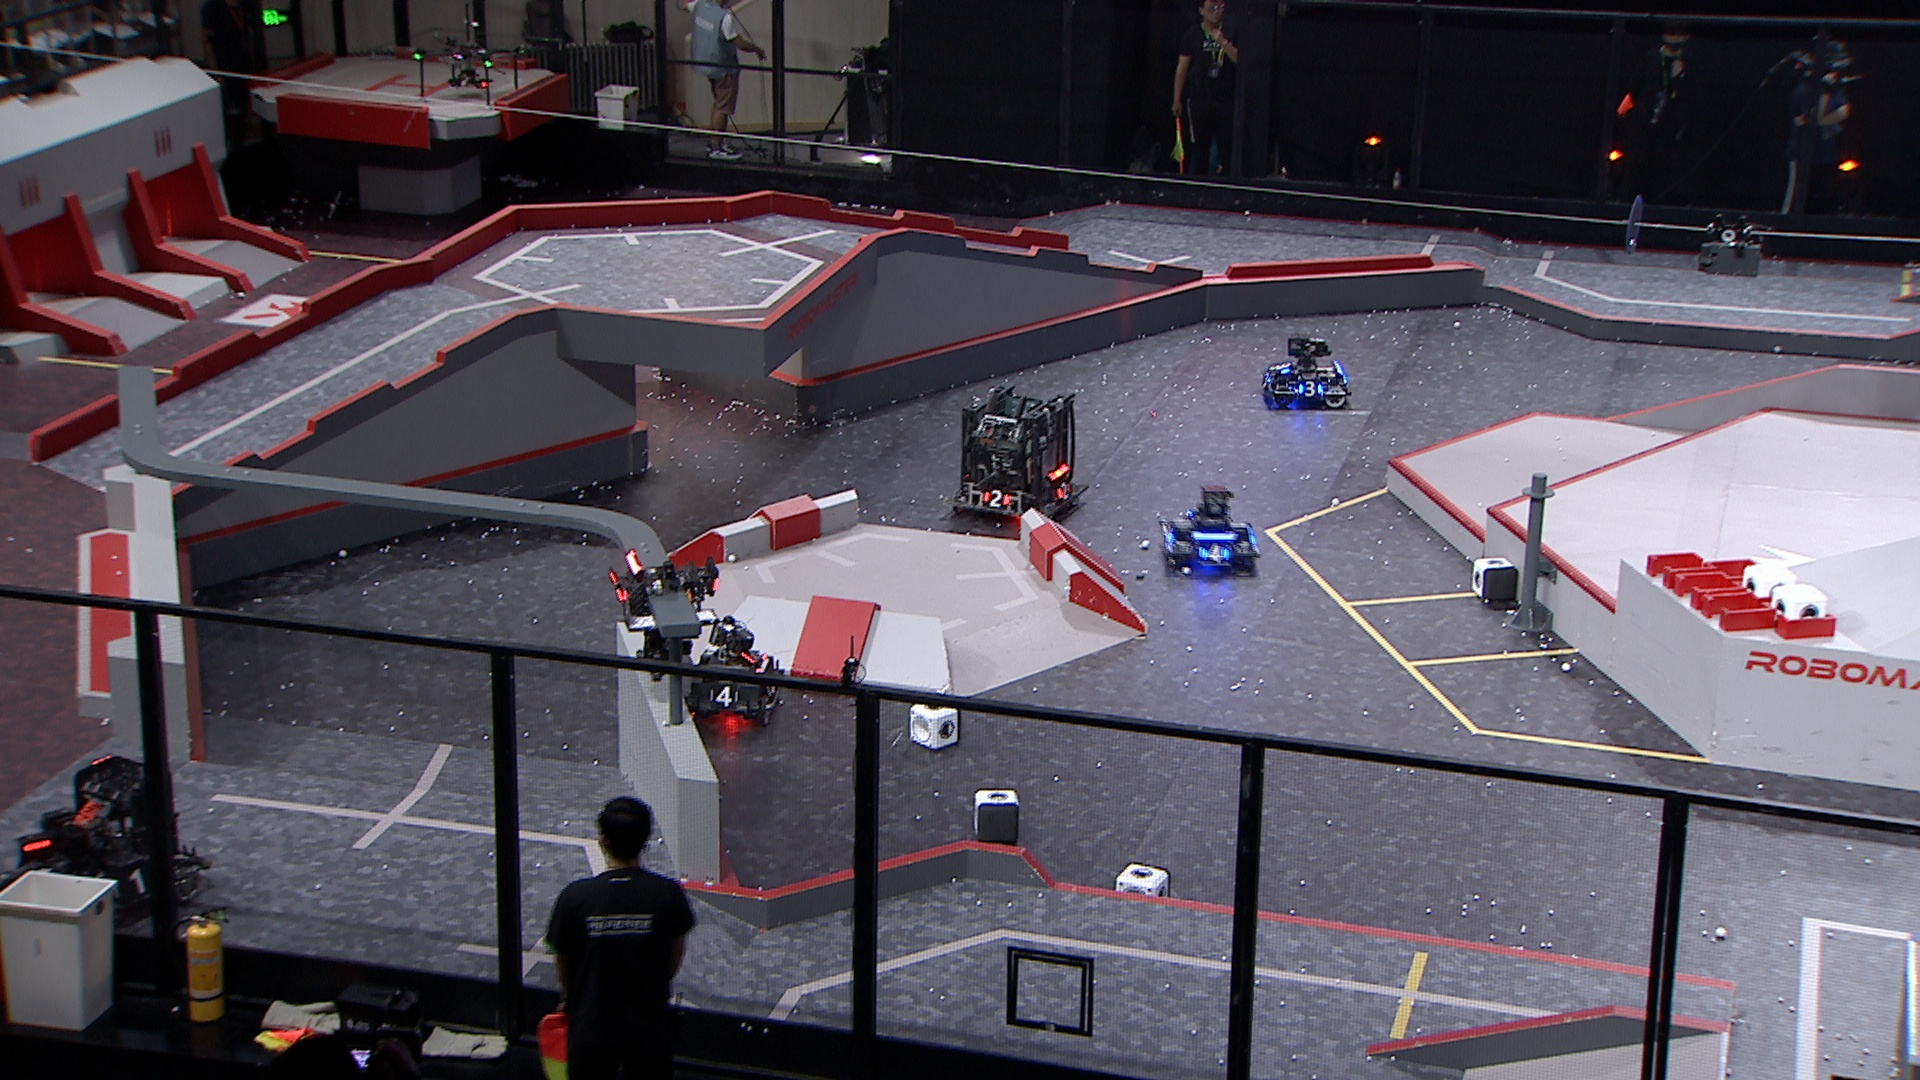armor: (111, 869, 152, 902), (707, 684, 741, 708), (611, 568, 632, 607), (1199, 543, 1234, 566), (1296, 378, 1327, 398), (982, 488, 1011, 508), (1159, 527, 1178, 555), (1271, 361, 1295, 377), (1058, 481, 1073, 501), (1261, 371, 1275, 390)
car: (951, 381, 1092, 527), (680, 613, 783, 731), (1159, 484, 1259, 578), (1261, 334, 1354, 413)
watcher: (609, 547, 721, 683)
